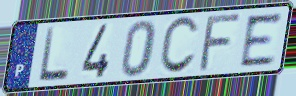0: (119, 18, 158, 79)
4: (80, 22, 111, 79)
C: (157, 14, 201, 77)
E: (239, 10, 284, 69)
F: (196, 12, 245, 74)
L: (36, 25, 71, 84)
